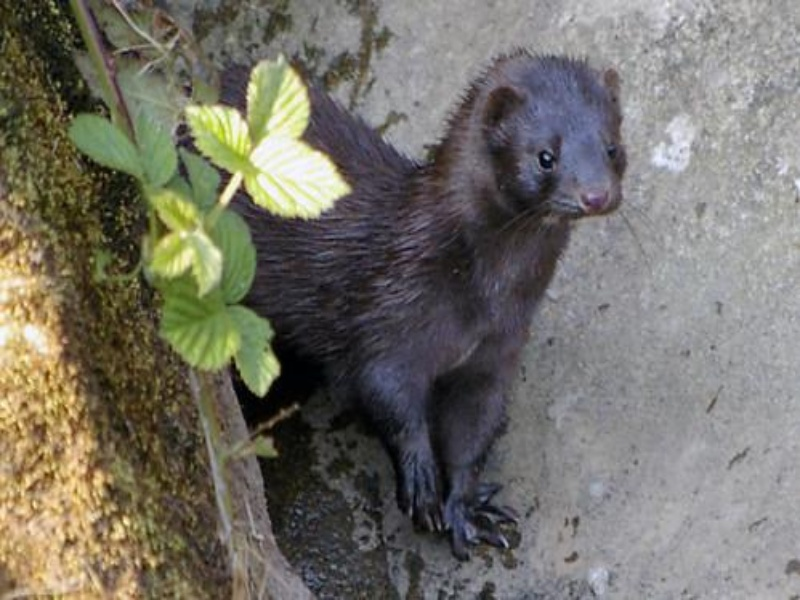minkish: (147, 50, 636, 569)
